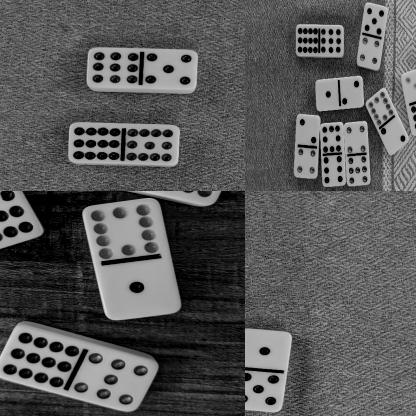pip-1: (100, 258, 180, 320), (245, 328, 291, 370), (314, 79, 340, 112)
pip-10: (81, 199, 164, 260), (365, 89, 394, 129)
pip-11: (125, 123, 180, 165), (146, 191, 233, 207)
pip-12: (0, 326, 79, 389), (0, 191, 42, 247), (68, 122, 123, 164), (295, 25, 320, 58)
pip-2: (379, 118, 408, 158), (295, 115, 320, 147), (340, 77, 364, 109)
pip-3: (399, 70, 416, 104)
pip-4: (356, 36, 381, 71), (344, 122, 368, 156), (294, 147, 318, 180)
pip-5: (142, 49, 198, 92), (245, 369, 285, 413), (362, 2, 388, 37)
pip-6: (321, 156, 345, 187), (408, 102, 416, 137)
pip-7: (74, 353, 158, 413), (345, 154, 370, 188)
pip-8: (319, 121, 343, 156)
pip-9: (86, 48, 142, 89), (318, 24, 343, 59)
